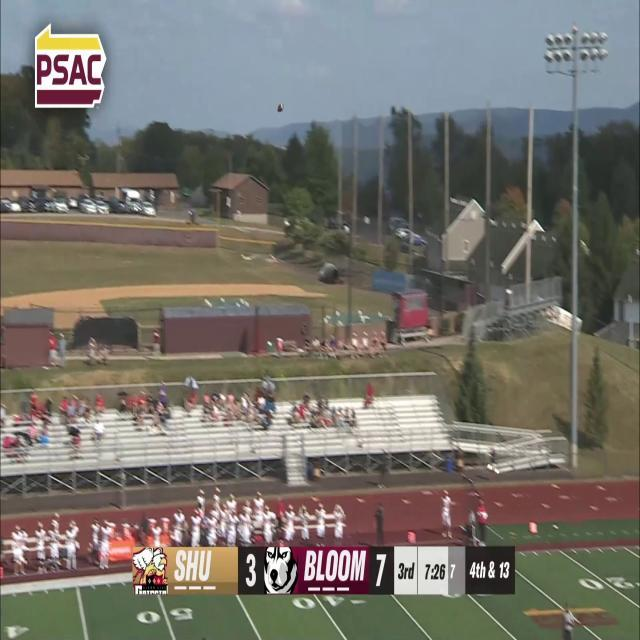football: (276, 102, 284, 113)
